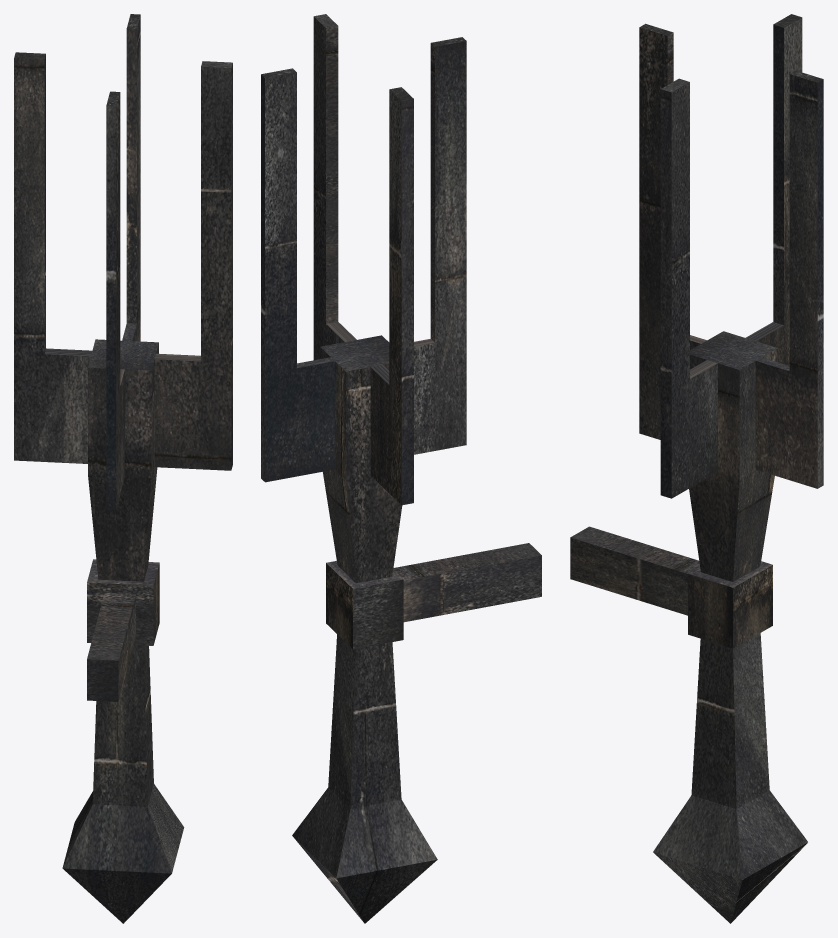
Rendered from Torch.fbx.
3 renders of one model, left to right at view 1: azimuth 30°, elevation 25°; view 2: azimuth 150°, elevation 25°; view 3: azimuth 270°, elevation 25°, orthographic.
Parts seen in each view (by area): view 1: pCube18; view 2: pCube18; view 3: pCube18.
Boxes of the visible parts, left/top/right/bottom form: pCube18: left=14, top=14, right=232, bottom=923; pCube18: left=261, top=14, right=541, bottom=923; pCube18: left=570, top=14, right=823, bottom=923.
Size of the model in its own units: 8.65 by 38.24 by 10.08.
Materials: 1 (1 with a texture image).
